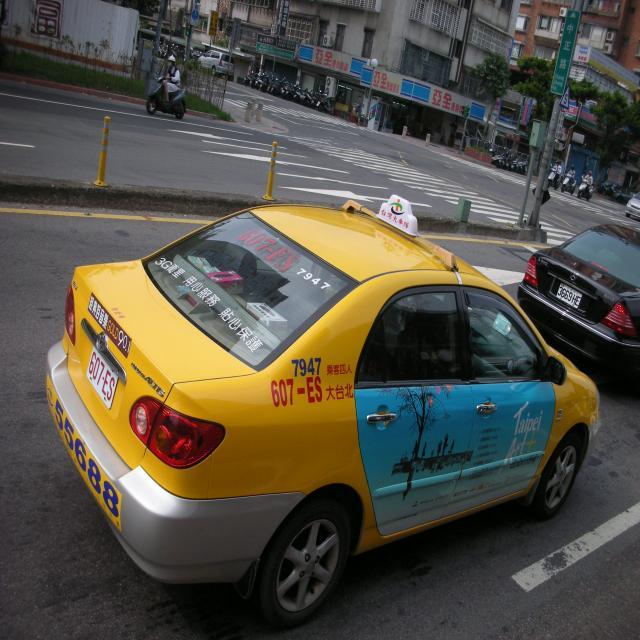taxi: (47, 158, 609, 603)
